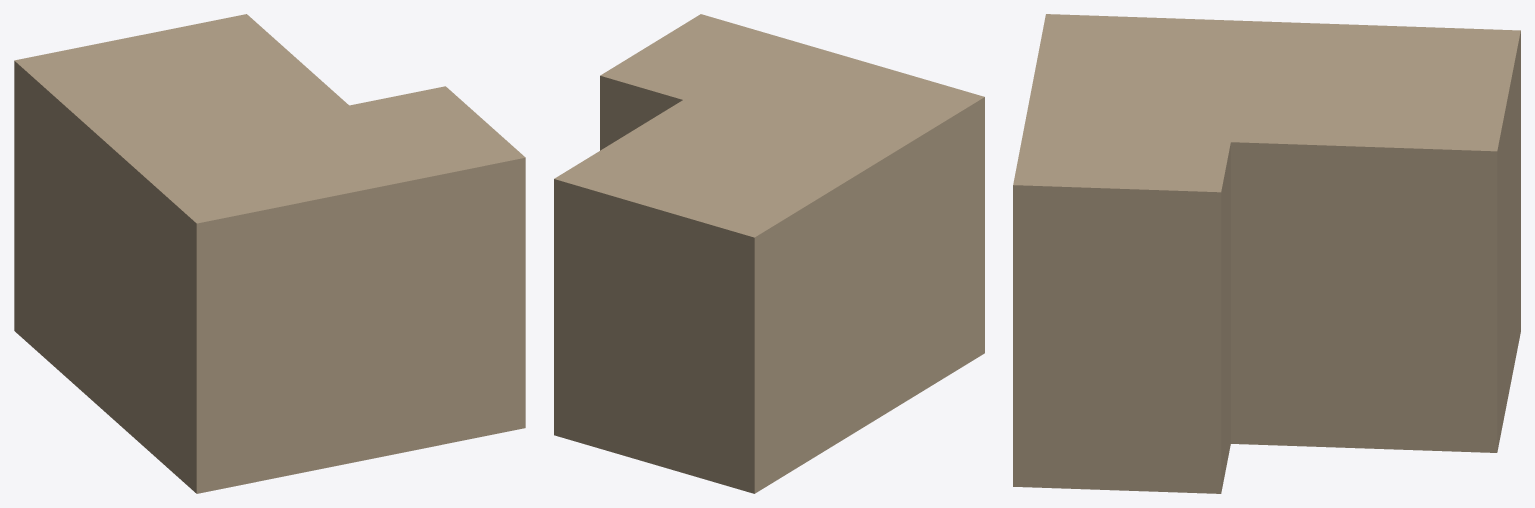
The model's file is bld_101374813.dae.
3 views of the same model, side by side, from view 1: azimuth 30°, elevation 25°; view 2: azimuth 150°, elevation 25°; view 3: azimuth 270°, elevation 25° (orthographic). The views are drawn at different scales.
Visible parts, largest first — view 1: bld_101374813; view 2: bld_101374813; view 3: bld_101374813.
Part boxes in pixels (x1,y1,x2,y2): bld_101374813: (14,14,525,493); bld_101374813: (554,14,984,493); bld_101374813: (1013,14,1520,493).
Size of the model in its own units: 10.14 by 12.2 by 8.
